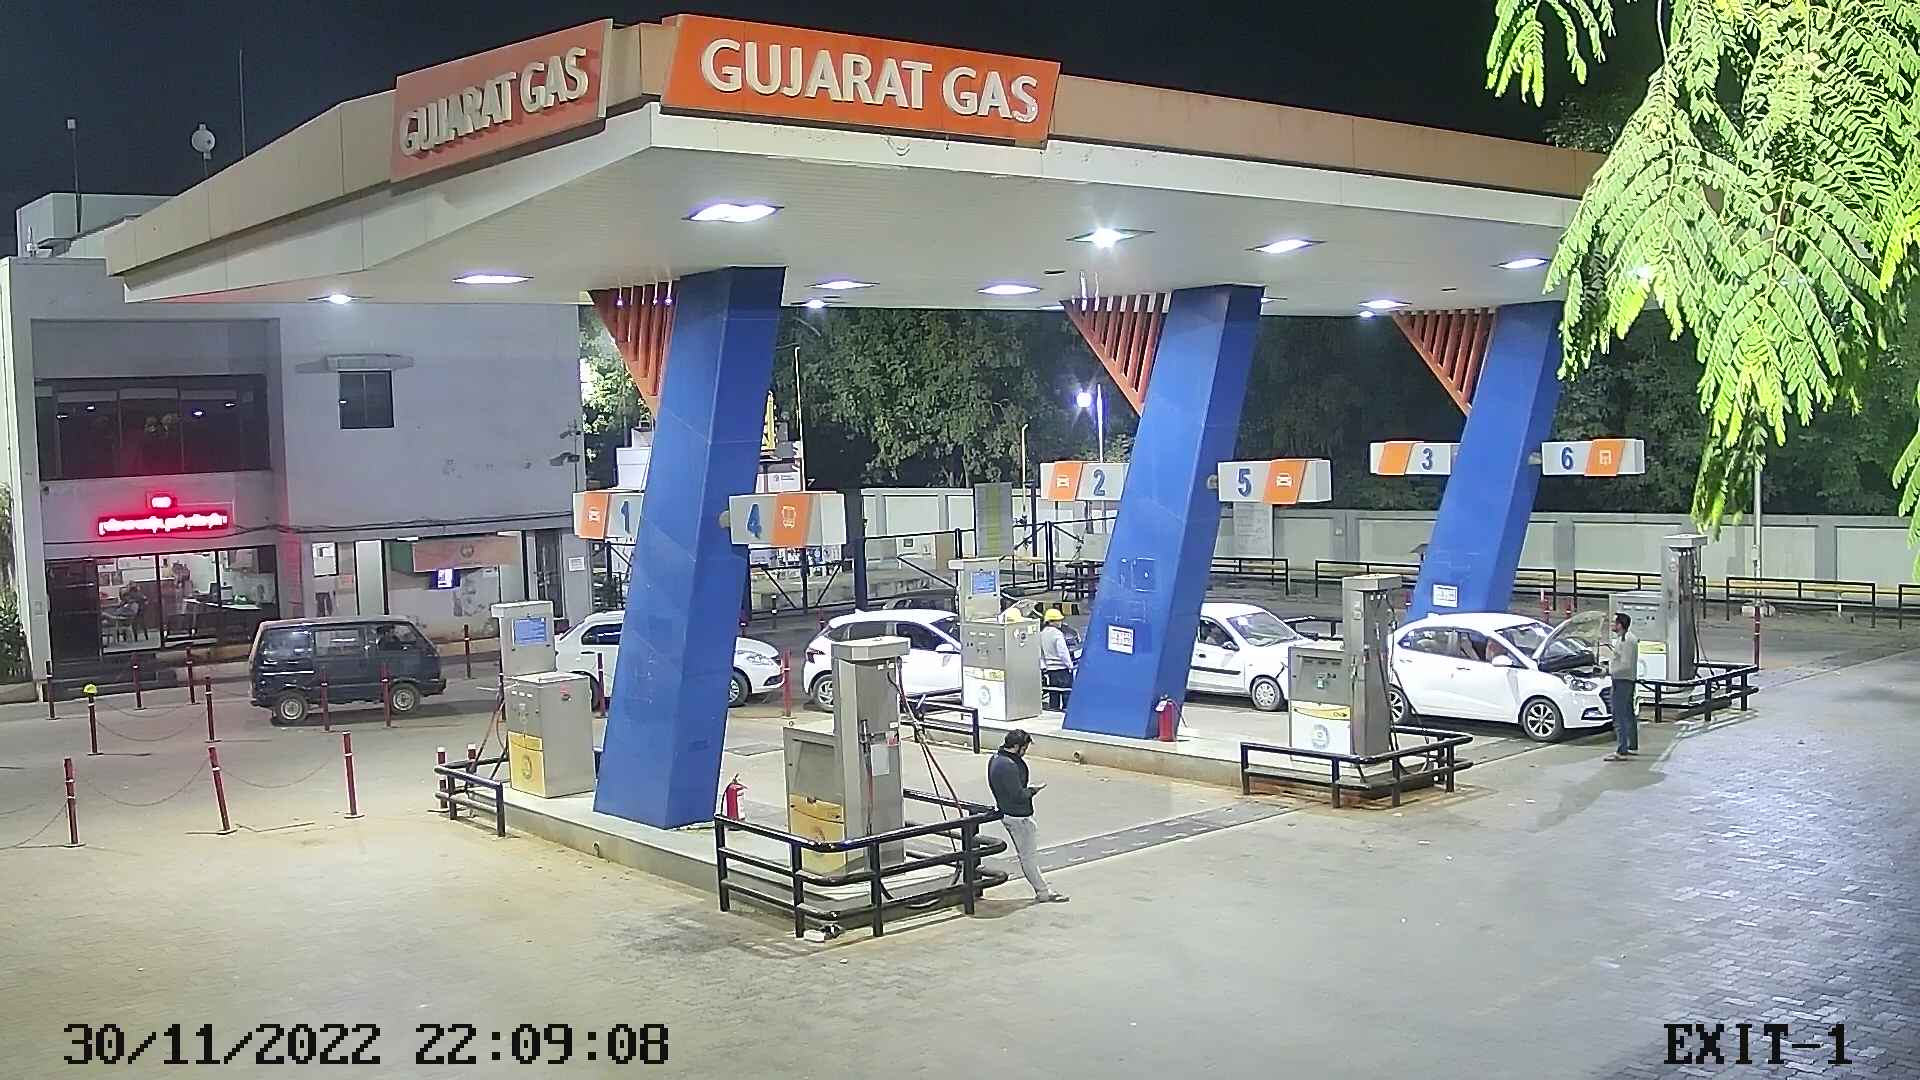Car: (1367, 601, 1651, 749), (237, 605, 456, 731), (1168, 589, 1345, 720), (791, 600, 967, 725), (988, 578, 1088, 721), (535, 601, 634, 725)
Others: (1033, 597, 1085, 717)
